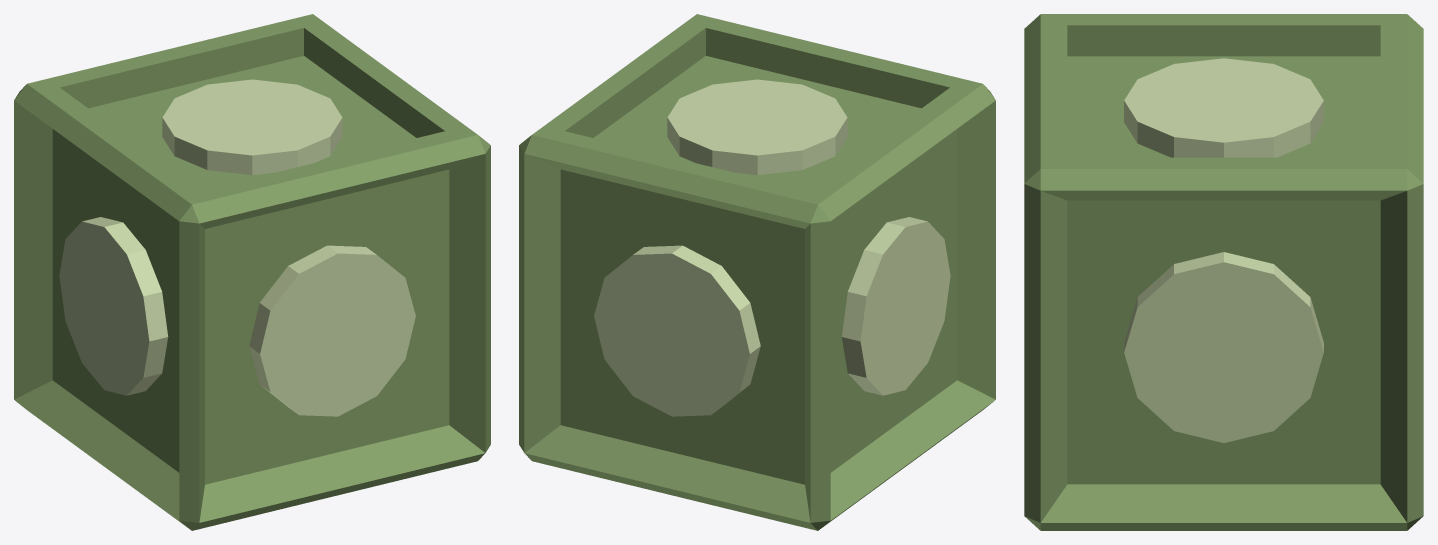
The picture shows the model from 3 angles, left to right: view 1: azimuth 30°, elevation 25°; view 2: azimuth 150°, elevation 25°; view 3: azimuth 270°, elevation 25°; orthographic projection. The views are drawn at different scales.
Visible parts, largest first — view 1: box_mesh; view 2: box_mesh; view 3: box_mesh.
Boxes of the visible parts, x1,y1,x2,y2 form: box_mesh: (14, 14, 490, 530); box_mesh: (519, 14, 995, 530); box_mesh: (1024, 14, 1423, 530).
Size of what is drawn, in the model's own units: 2 by 2 by 2.
